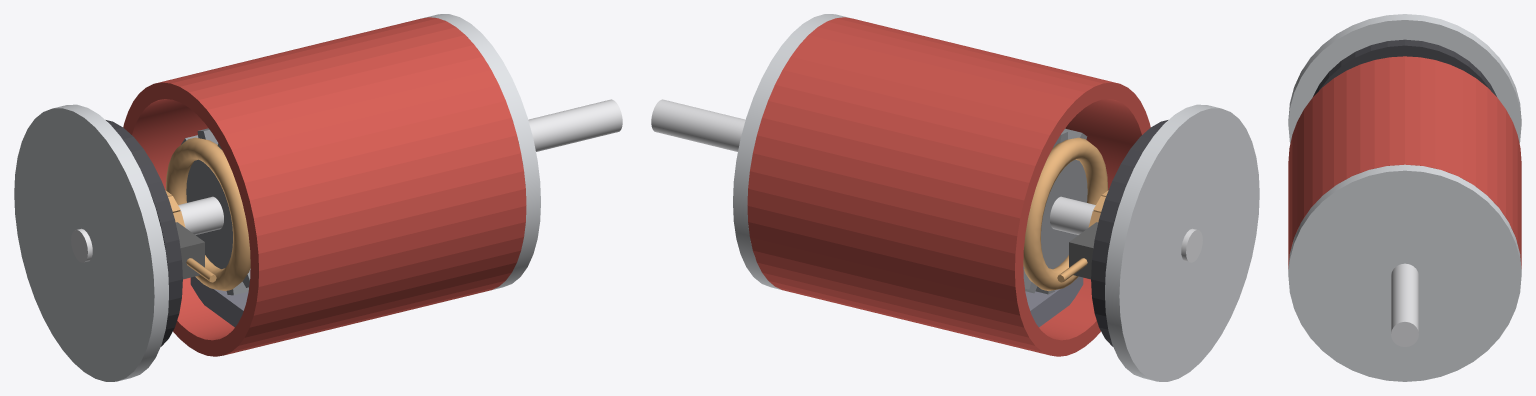
Rendered from electrico_continua_0p5_patas.glb.
3 renders of one model, left to right at view 1: azimuth 30°, elevation 25°; view 2: azimuth 150°, elevation 25°; view 3: azimuth 270°, elevation 25°, orthographic. The views are drawn at different scales.
Visible parts, largest first — view 1: carcasa, tapa_trasera, inducido, eje, tapa_delantera, portaescobillas, iman_2, escobilla_2; view 2: carcasa, tapa_trasera, inducido, eje, tapa_delantera, portaescobillas, iman_2, escobilla_1; view 3: tapa_delantera, carcasa, tapa_trasera, portaescobillas, eje.
Boxes of the visible parts, left/top/right/bottom form: carcasa: left=123, top=17, right=526, bottom=356; tapa_trasera: left=14, top=104, right=168, bottom=381; inducido: left=165, top=128, right=250, bottom=295; eje: left=71, top=99, right=622, bottom=262; tapa_delantera: left=424, top=14, right=540, bottom=289; portaescobillas: left=106, top=120, right=182, bottom=346; iman_2: left=190, top=276, right=248, bottom=327; escobilla_2: left=176, top=222, right=216, bottom=282; carcasa: left=747, top=17, right=1150, bottom=356; tapa_trasera: left=1105, top=104, right=1259, bottom=381; inducido: left=1023, top=128, right=1108, bottom=294; eje: left=651, top=99, right=1202, bottom=262; tapa_delantera: left=733, top=14, right=849, bottom=289; portaescobillas: left=1091, top=120, right=1167, bottom=346; iman_2: left=1025, top=276, right=1083, bottom=327; escobilla_1: left=1057, top=222, right=1097, bottom=282; tapa_delantera: left=1288, top=164, right=1521, bottom=381; carcasa: left=1288, top=56, right=1521, bottom=268; tapa_trasera: left=1288, top=14, right=1521, bottom=143; portaescobillas: left=1313, top=39, right=1496, bottom=96; eje: left=1391, top=263, right=1418, bottom=346.
Size of the model in its own units: 13.97 by 6.35 by 6.35.
